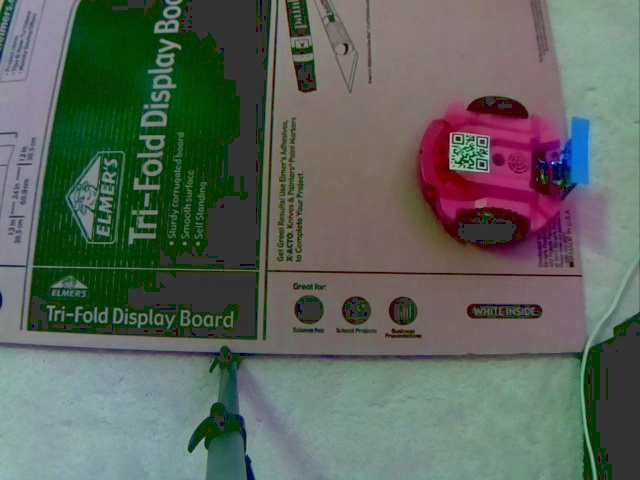board: (540, 117, 590, 193)
chassis: (412, 92, 594, 245)
